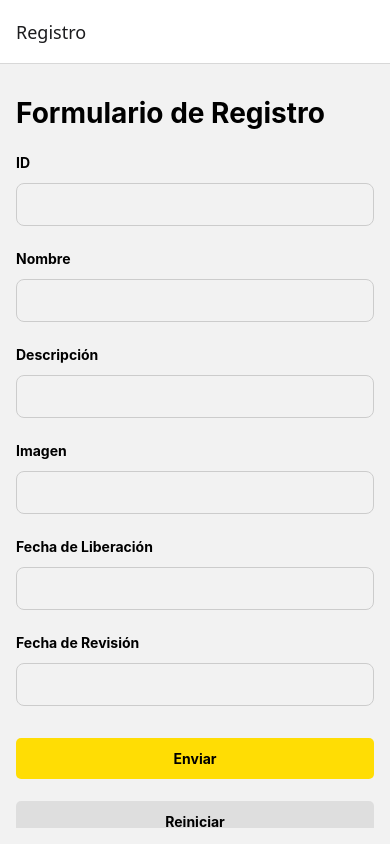
Test: Register Product › should toggle error modal if submit error
Click the text "Enviar": (195, 758) [174, 750, 216, 767]
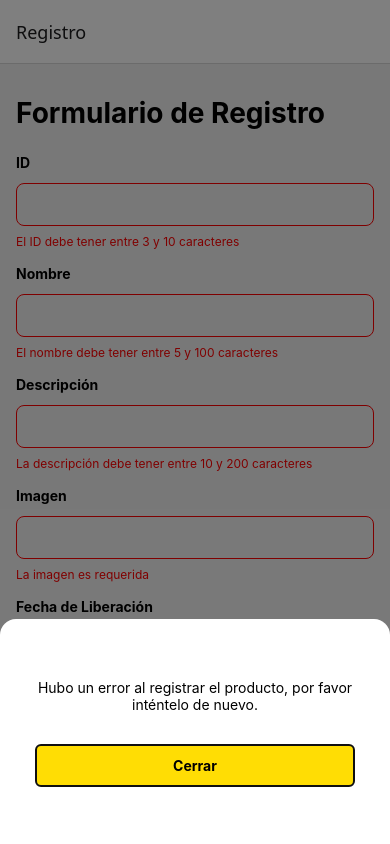
Now the text "Hubo un error al registrar el producto, por favor inténtelo de nuevo." is shown, box [36, 679, 354, 713]
